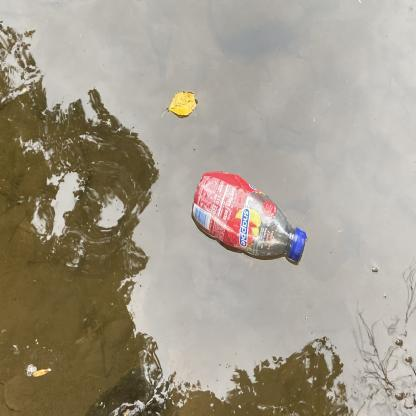trash: (186, 160, 312, 266)
